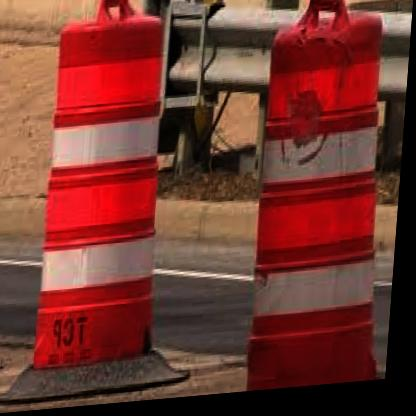obstacle: (246, 9, 394, 397), (35, 5, 171, 378)
